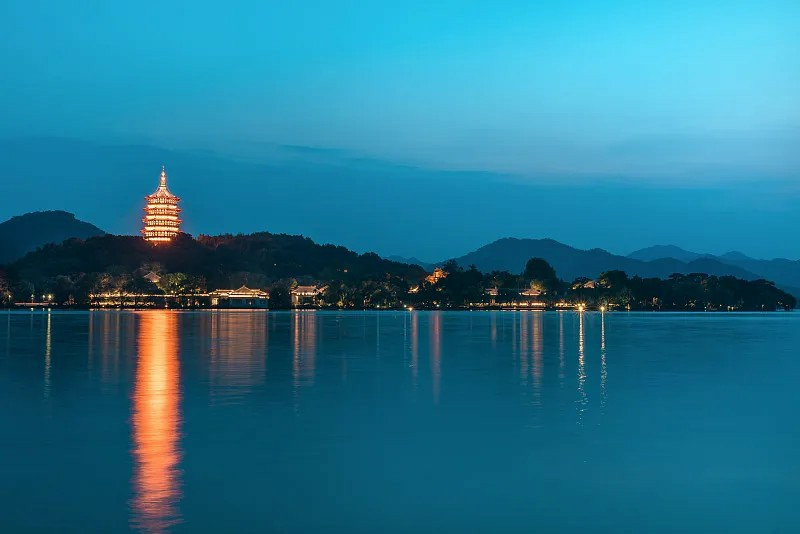Leifeng: (139, 164, 183, 245)
